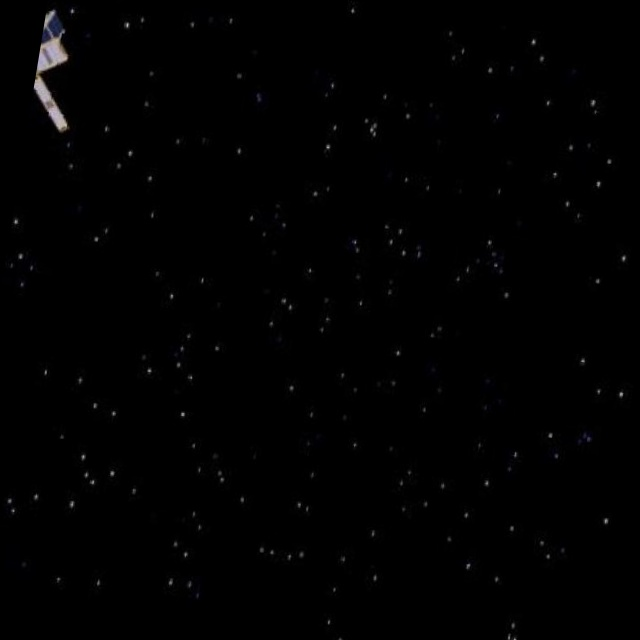satellite: (25, 4, 101, 148)
